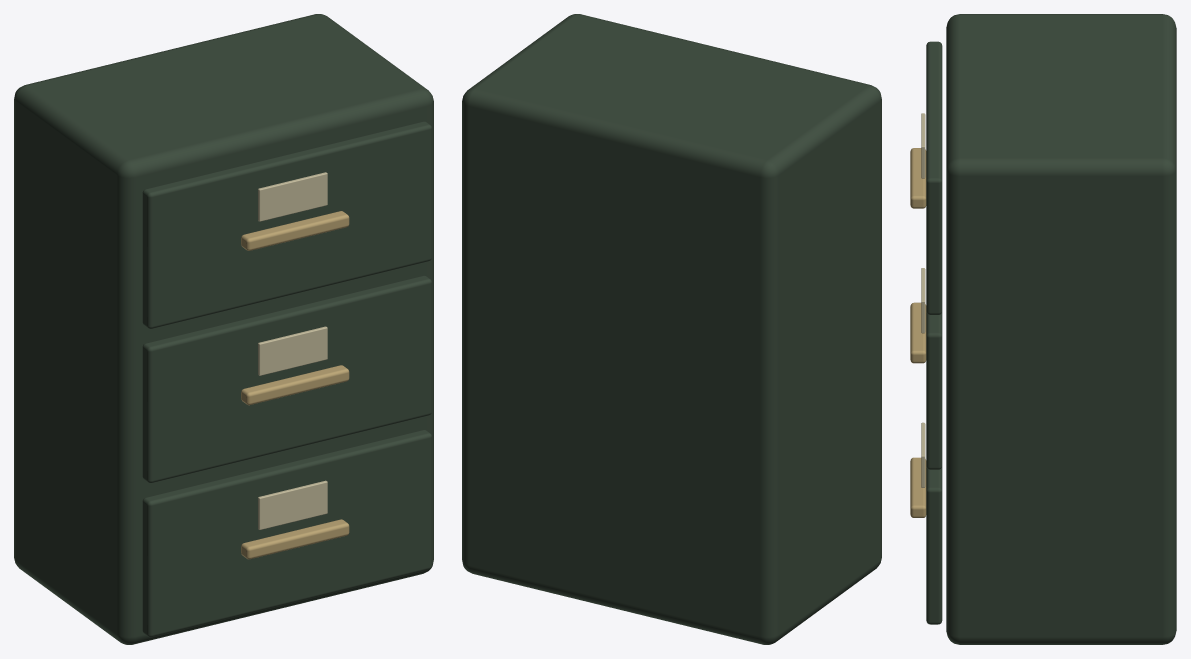
File: cabinet.glb
The picture shows the model from 3 angles, left to right: view 1: azimuth 30°, elevation 25°; view 2: azimuth 150°, elevation 25°; view 3: azimuth 270°, elevation 25°; orthographic projection.
Visible parts, largest first — view 1: cabinet, drawer_2, drawer_0, drawer_1; view 2: cabinet; view 3: cabinet, drawer_2, drawer_0, drawer_1.
Part boxes in pixels (x1,y1,x2,y2): cabinet: (14, 14, 433, 644); drawer_2: (142, 121, 431, 328); drawer_0: (142, 430, 431, 637); drawer_1: (142, 275, 431, 482); cabinet: (462, 14, 881, 644); cabinet: (910, 14, 1176, 644); drawer_2: (926, 41, 942, 314); drawer_0: (926, 466, 942, 624); drawer_1: (926, 311, 942, 469).
Size of the model in its own units: 0.92 by 1.35 by 0.67.
